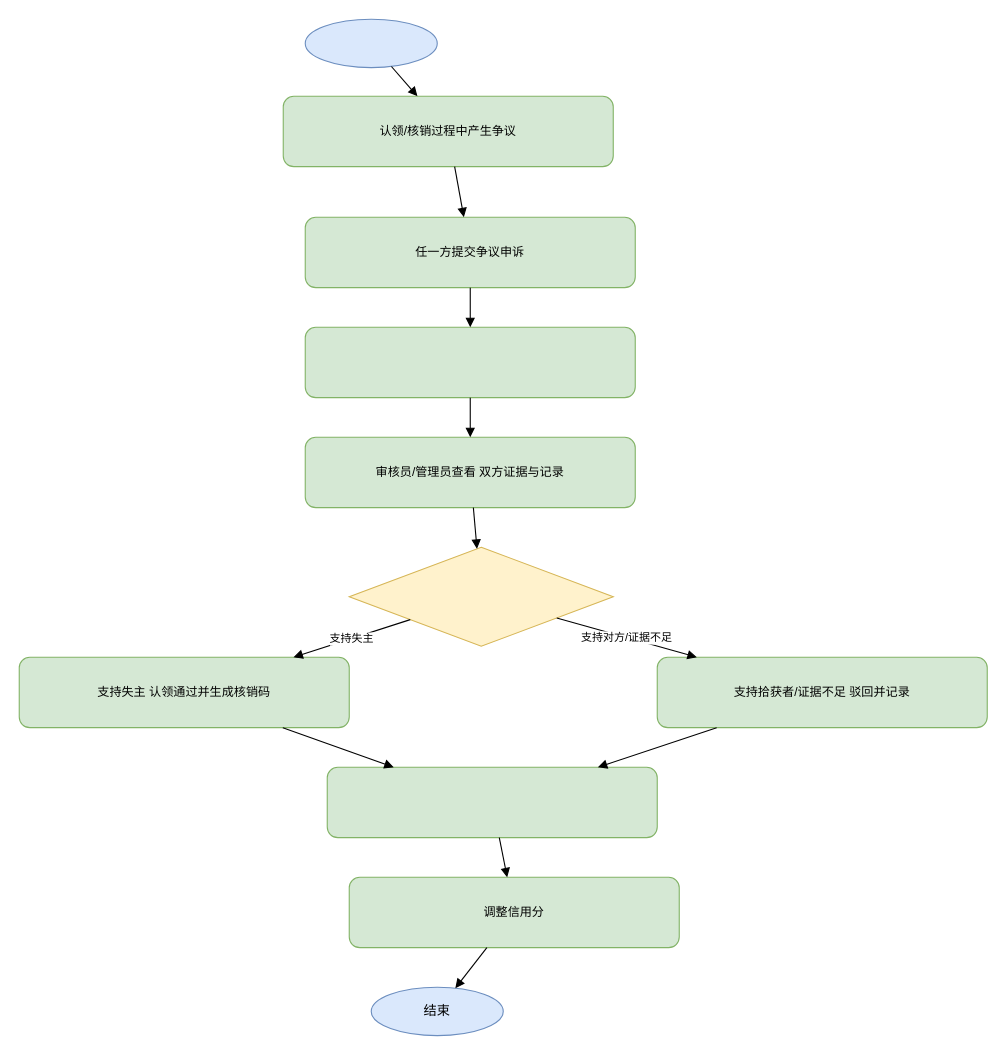
The diagram is 1007 pixels wide and 1055 high, and some of its shapes have lost their labels. The centre of each missing label's shape, as x and y in pixels:
"仲裁判定" belongs at (480,596).
"开始" belongs at (370,43).
"状态→DISPUTED (争议仲裁中)" belongs at (469,362).
"记录审计日志(AuditLog)" belongs at (491,802).
